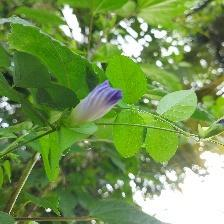shankupushpam: (65, 77, 127, 133)
